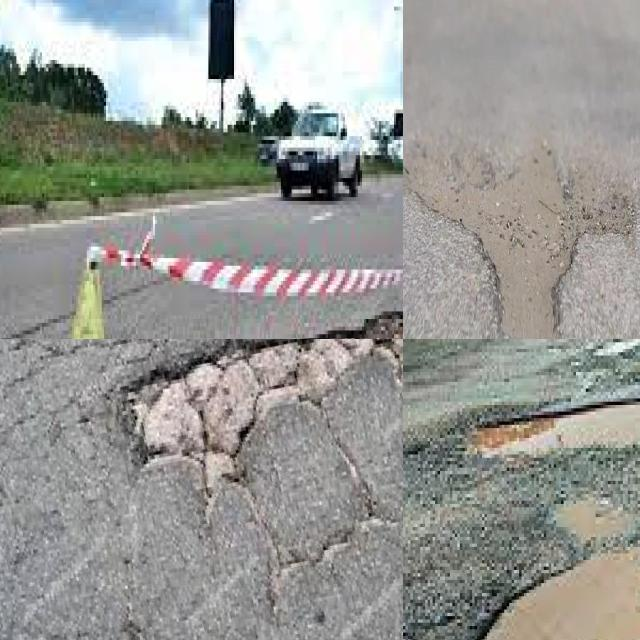Pothole: (406, 123, 637, 339), (135, 339, 389, 495)
